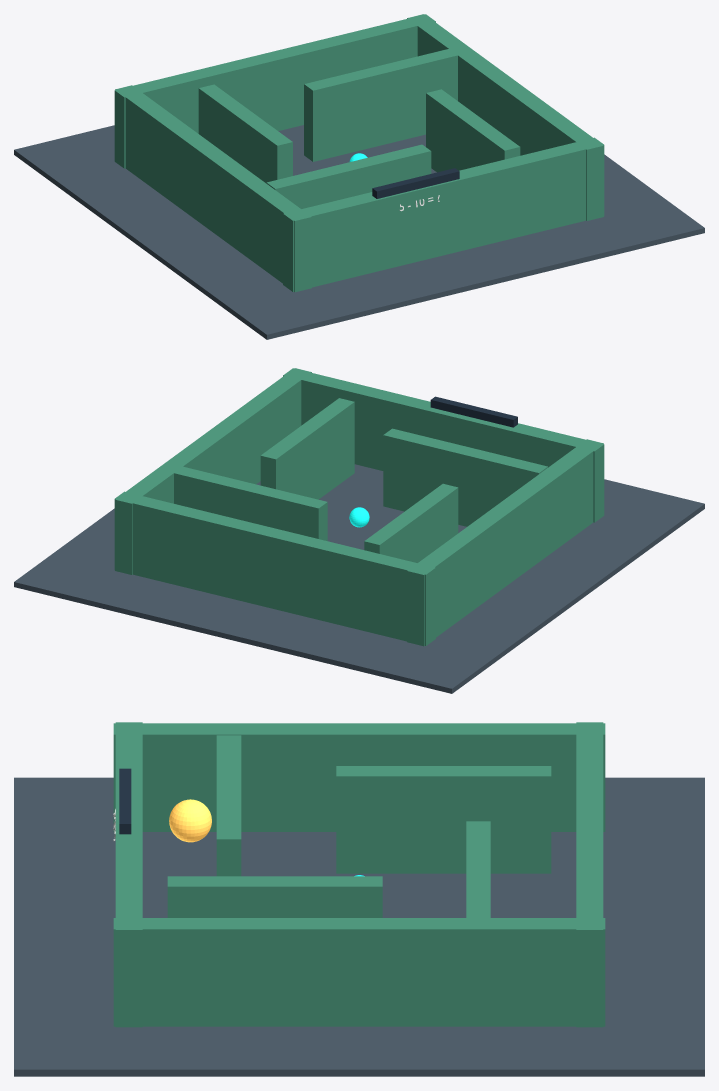
Rendered from learning-maze-pursuit.glb.
The picture shows the model from 3 angles, top to bottom: view 1: azimuth 30°, elevation 25°; view 2: azimuth 150°, elevation 25°; view 3: azimuth 270°, elevation 25°; orthographic projection. The views are drawn at different scales.
Parts seen in each view (by area): view 1: Maze garden ground, Maze hedge wall 2, Maze hedge wall 0, Maze hedge wall 3, Maze hedge wall 5, Maze hedge wall 1, Maze hedge wall 6, Maze hedge wall 4, Maze hedge wall 7, Roadside question board; view 2: Maze garden ground, Maze hedge wall 3, Maze hedge wall 0, Maze hedge wall 2, Maze hedge wall 1, Maze hedge wall 4, Maze hedge wall 7, Maze hedge wall 5, Maze hedge wall 6, Roadside question board; view 3: Maze garden ground, Maze hedge wall 1, Maze hedge wall 0, Maze hedge wall 6, Maze hedge wall 7, Maze hedge wall 3, Maze hedge wall 2, Maze hedge wall 4, Maze hedge wall 5, Learner avatar speed core, Roadside question board.
Boxes of the visible parts, box(x1,y1,x2,y2) form: Maze garden ground: box(14, 125, 704, 339); Maze hedge wall 2: box(283, 137, 604, 291); Maze hedge wall 0: box(115, 85, 311, 292); Maze hedge wall 3: box(114, 14, 435, 168); Maze hedge wall 5: box(304, 49, 457, 161); Maze hedge wall 1: box(407, 14, 603, 220); Maze hedge wall 6: box(198, 84, 292, 182); Maze hedge wall 4: box(266, 144, 431, 208); Maze hedge wall 7: box(426, 89, 520, 172); Roadside question board: box(372, 168, 459, 198); Maze garden ground: box(14, 464, 704, 693); Maze hedge wall 3: box(114, 491, 435, 645); Maze hedge wall 0: box(407, 439, 603, 646); Maze hedge wall 2: box(283, 368, 604, 522); Maze hedge wall 1: box(115, 368, 311, 574); Maze hedge wall 4: box(383, 428, 547, 526); Maze hedge wall 7: box(260, 398, 354, 499); Maze hedge wall 5: box(174, 466, 327, 540); Maze hedge wall 6: box(364, 483, 458, 562); Roadside question board: box(430, 396, 517, 427); Maze garden ground: box(14, 777, 704, 1076); Maze hedge wall 1: box(113, 918, 605, 1026); Maze hedge wall 0: box(113, 723, 605, 831); Maze hedge wall 6: box(336, 766, 551, 873); Maze hedge wall 7: box(167, 876, 382, 917); Maze hedge wall 3: box(576, 722, 603, 1027); Maze hedge wall 2: box(115, 722, 142, 1027); Maze hedge wall 4: box(216, 735, 241, 876); Maze hedge wall 5: box(466, 821, 490, 918); Learner avatar speed core: box(169, 799, 211, 842); Roadside question board: box(119, 768, 131, 834).
Bounding box in the file's own units: 9 × 1.65 × 9.
